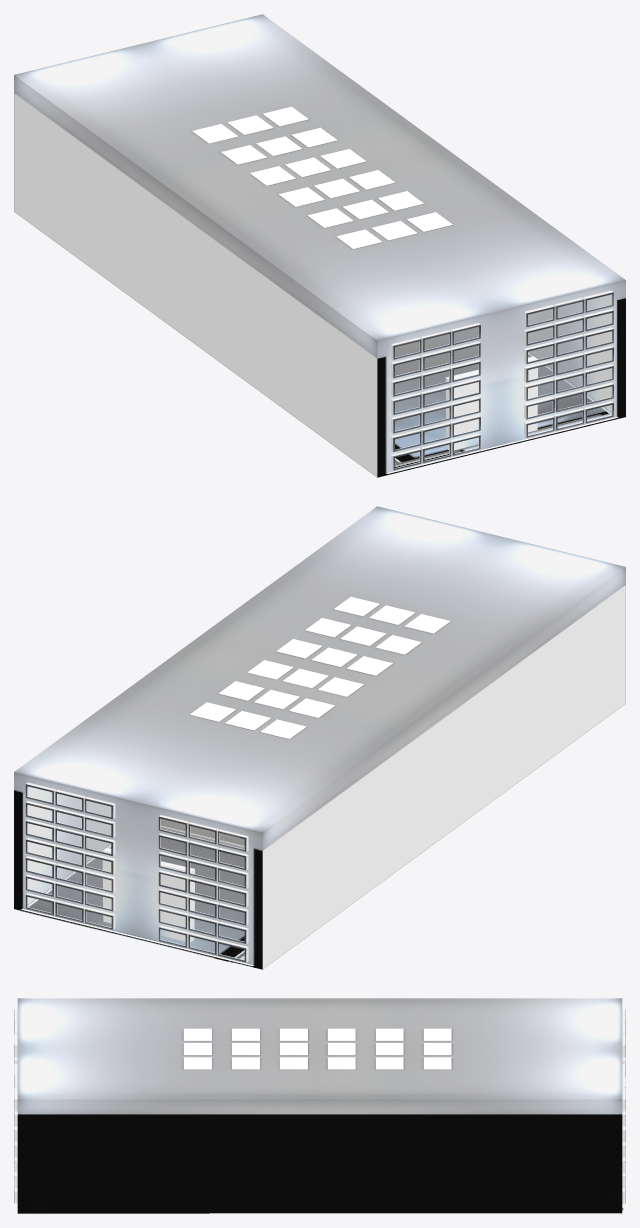
3 views of the same model, one above another, from view 1: azimuth 30°, elevation 25°; view 2: azimuth 150°, elevation 25°; view 3: azimuth 270°, elevation 25° (orthographic). The views are drawn at different scales.
Parts seen in each view (by area): view 1: Raum, Lampen_oben, Floor; view 2: Raum, Lampen_oben, Floor; view 3: Raum, Lampen_oben.
Boxes of the visible parts, <box> form: Raum: <box>14,14,625,477</box>; Lampen_oben: <box>192,106,452,249</box>; Floor: <box>395,327,610,467</box>; Raum: <box>14,506,625,969</box>; Lampen_oben: <box>189,596,450,739</box>; Floor: <box>21,819,252,967</box>; Raum: <box>14,998,625,1213</box>; Lampen_oben: <box>183,1028,451,1069</box>.
Bounding box in the file's own units: 7.66 × 4.05 × 19.61.
Materials: 3 (2 with a texture image).
